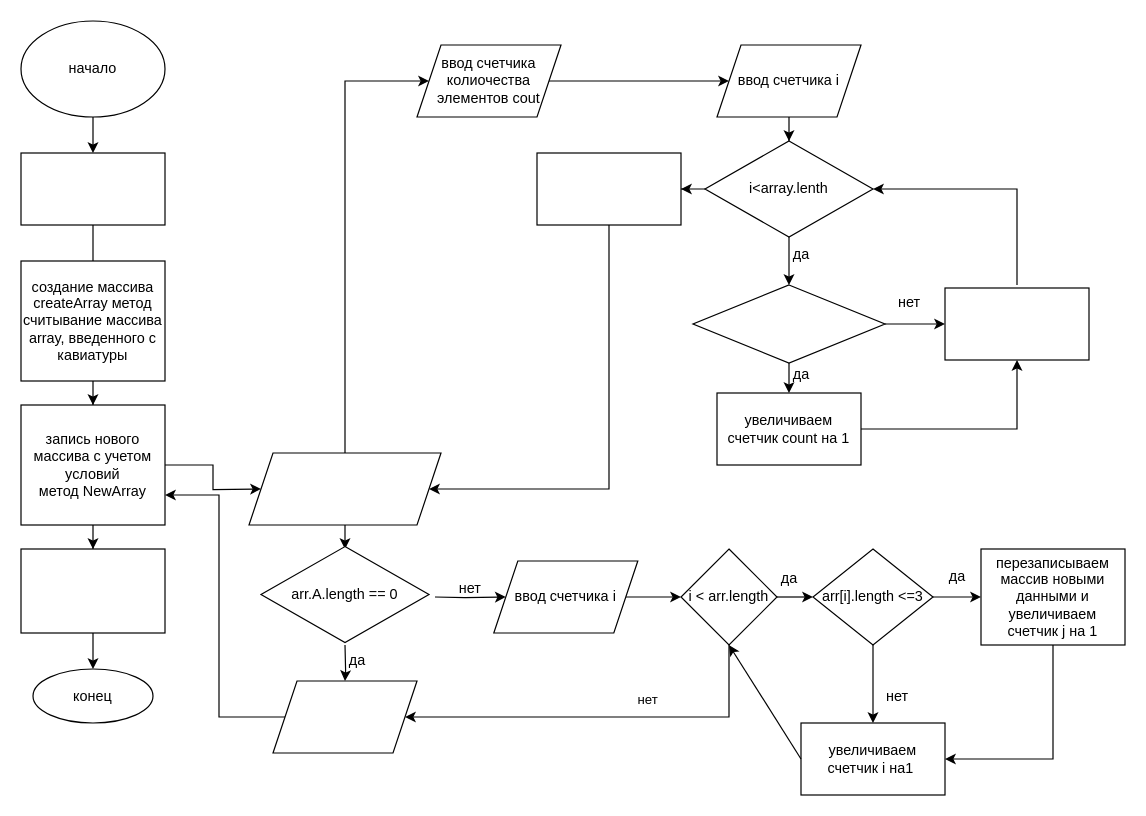
Image size: 1146x816. Some labels were removed from this diagram. Each missing label, with the box of its shape:
array[i].length<=3: (692, 284, 885, 363)
введение колчества элементов массива > 0 input amount: (20, 152, 165, 225)
ввод счетчика j и вызов метода подсчета элементов массива < 3: (248, 452, 441, 525)
возврат существующго массива: (272, 680, 417, 753)
возврат счетчика count: (536, 152, 681, 225)
вывод нового массива на экран метод PrintArray: (20, 548, 165, 633)
увеличиваем счетчик i на 1: (944, 287, 1089, 360)
